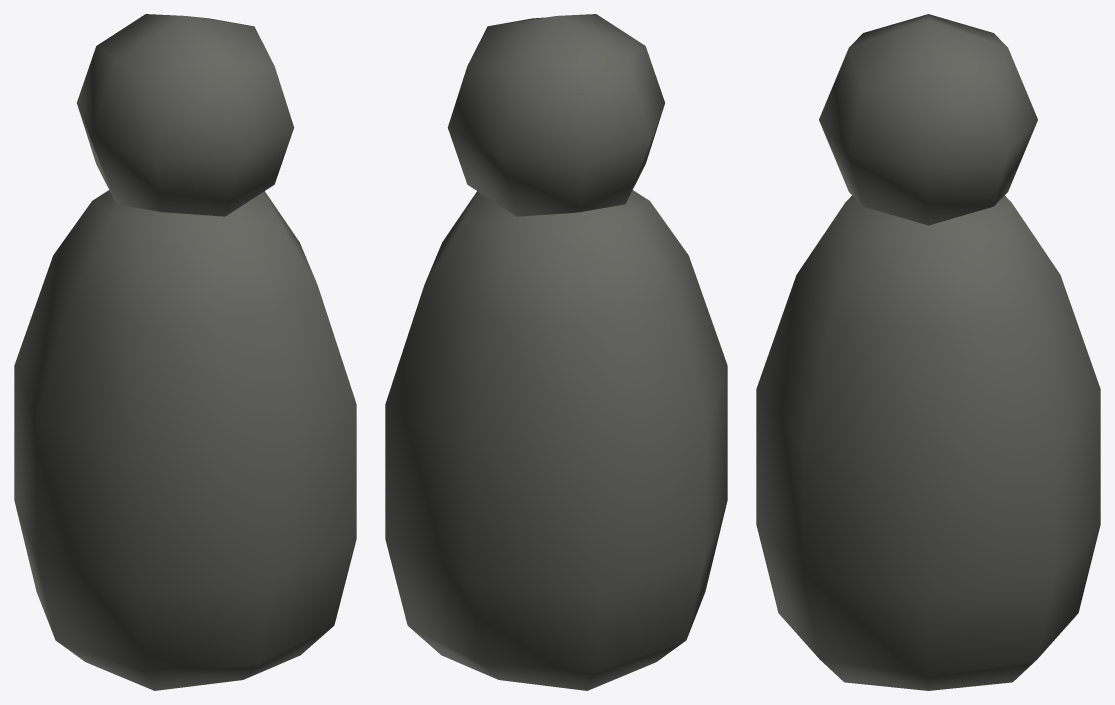
The model's file is NPC.fbx.
The picture shows the model from 3 angles, left to right: view 1: azimuth 30°, elevation 25°; view 2: azimuth 150°, elevation 25°; view 3: azimuth 270°, elevation 25°; orthographic projection.
Parts seen in each view (by area): view 1: NPC; view 2: NPC; view 3: NPC.
Part boxes in pixels (x1,y1,x2,y2): NPC: (14,14,356,690); NPC: (385,14,727,690); NPC: (756,14,1100,690).
Size of the model in its own units: 88.75 by 183 by 88.75.
